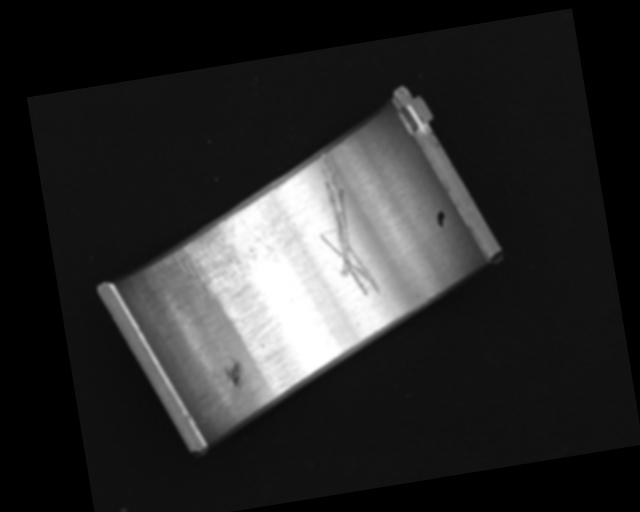blot: (435, 210, 447, 230)
bruise: (221, 358, 245, 390)
nick: (307, 145, 381, 303)
scratch: (154, 200, 293, 311)
